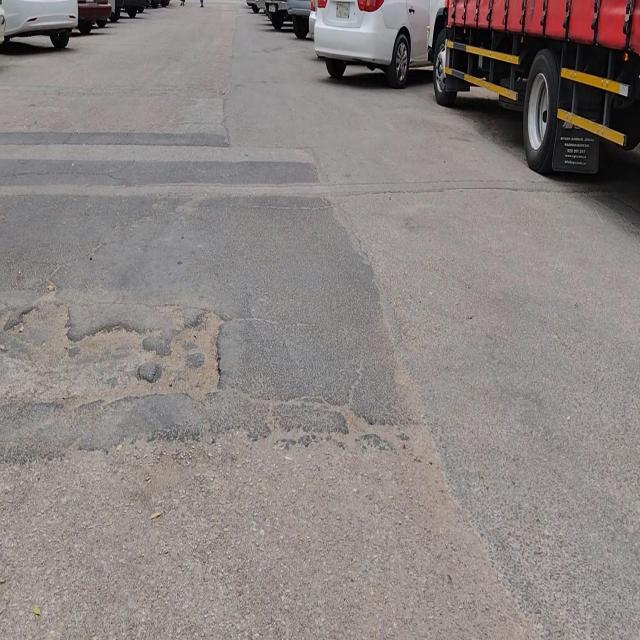Potholes: (137, 300, 223, 404), (69, 317, 144, 410)
